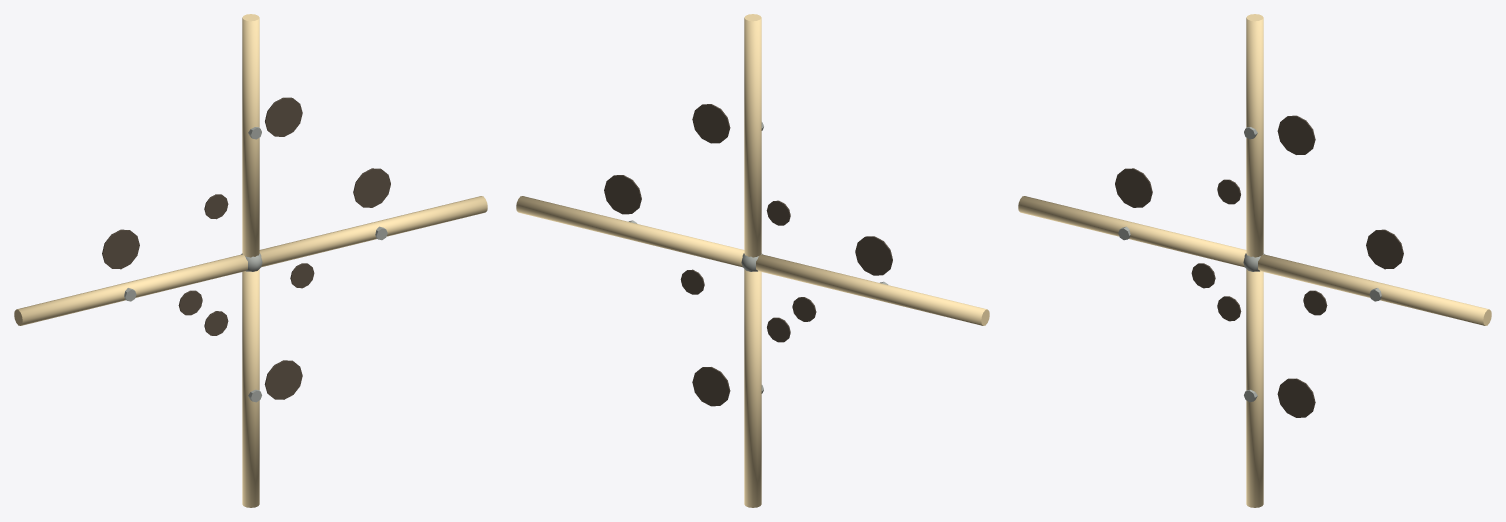
File: drip_m15.obj
3 views of the same model, side by side, from view 1: azimuth 30°, elevation 25°; view 2: azimuth 150°, elevation 25°; view 3: azimuth 330°, elevation 25° (orthographic).
Parts seen in each view (by area): view 1: hose4, hose8, hose1, hose2, wet2_0, wet4_0, wet1_0, wet8_0; view 2: hose4, hose8, hose1, hose2, wet8_0, wet2_0, wet4_0, wet1_0; view 3: hose4, hose2, hose1, hose8, wet8_0, wet1_0, wet2_0, wet4_0.
Boxes of the visible parts, x1,y1,x2,y2 form: hose4: (242, 14, 259, 257); hose8: (14, 254, 247, 325); hose1: (242, 269, 259, 507); hose2: (259, 196, 487, 267); wet2_0: (353, 168, 390, 207); wet4_0: (265, 97, 302, 136); wet1_0: (264, 360, 302, 399); wet8_0: (102, 229, 139, 269); hose4: (744, 14, 761, 257); hose8: (756, 254, 989, 325); hose1: (744, 269, 761, 507); hose2: (516, 196, 744, 267); wet8_0: (855, 236, 892, 275); wet2_0: (604, 175, 641, 214); wet4_0: (692, 104, 730, 143); wet1_0: (692, 367, 730, 406); hose4: (1246, 14, 1263, 257); hose2: (1258, 254, 1491, 325); hose1: (1246, 269, 1263, 507); hose8: (1018, 196, 1246, 267); wet8_0: (1115, 168, 1152, 207); wet1_0: (1277, 378, 1315, 417); wet2_0: (1366, 229, 1403, 269); wet4_0: (1277, 115, 1315, 154).
Bounding box in the file's own units: 1 × 1 × 0.0464.
3 materials, 3 textured.
